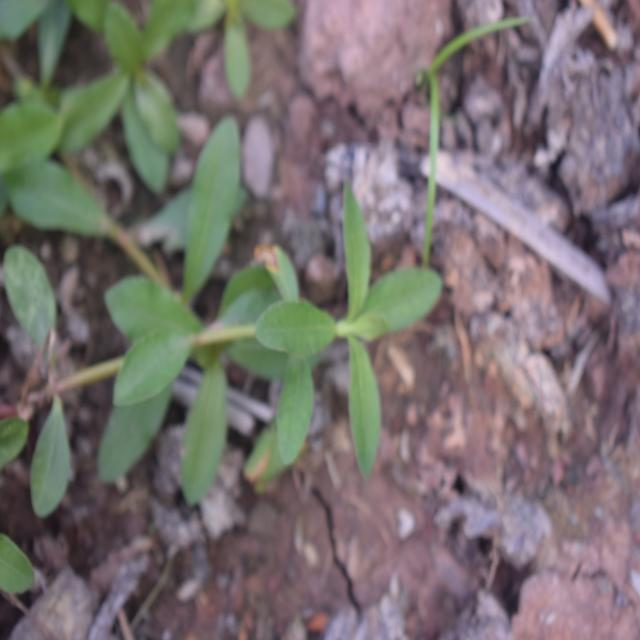Alligatorweed: (78, 138, 456, 491)
